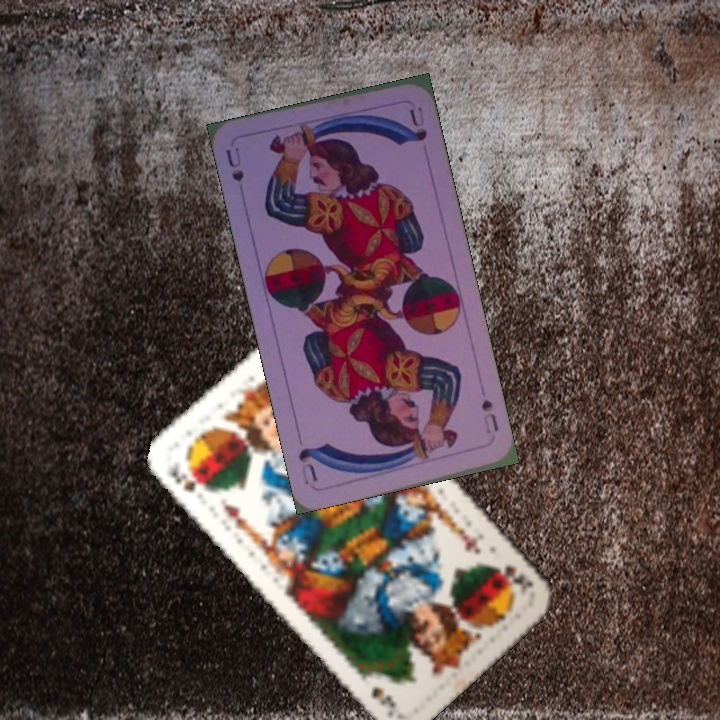SK: (491, 560, 537, 596), (166, 460, 210, 496)
SU: (221, 143, 247, 185), (477, 395, 502, 436)
